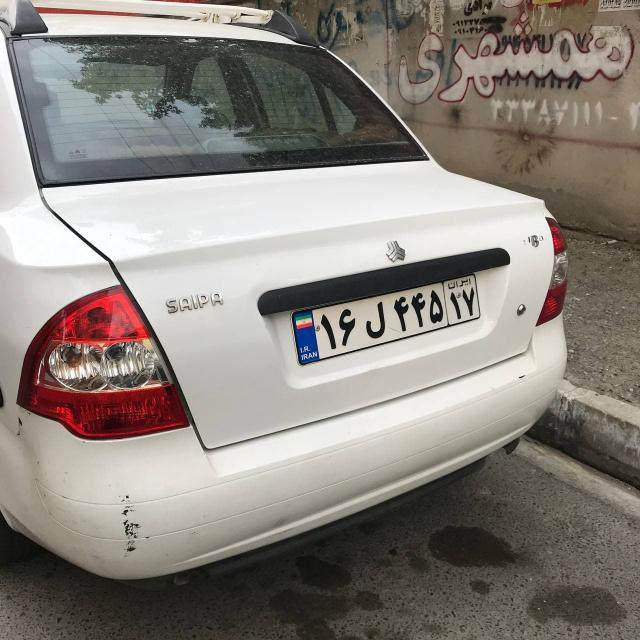Plates: (286, 265, 485, 365)
